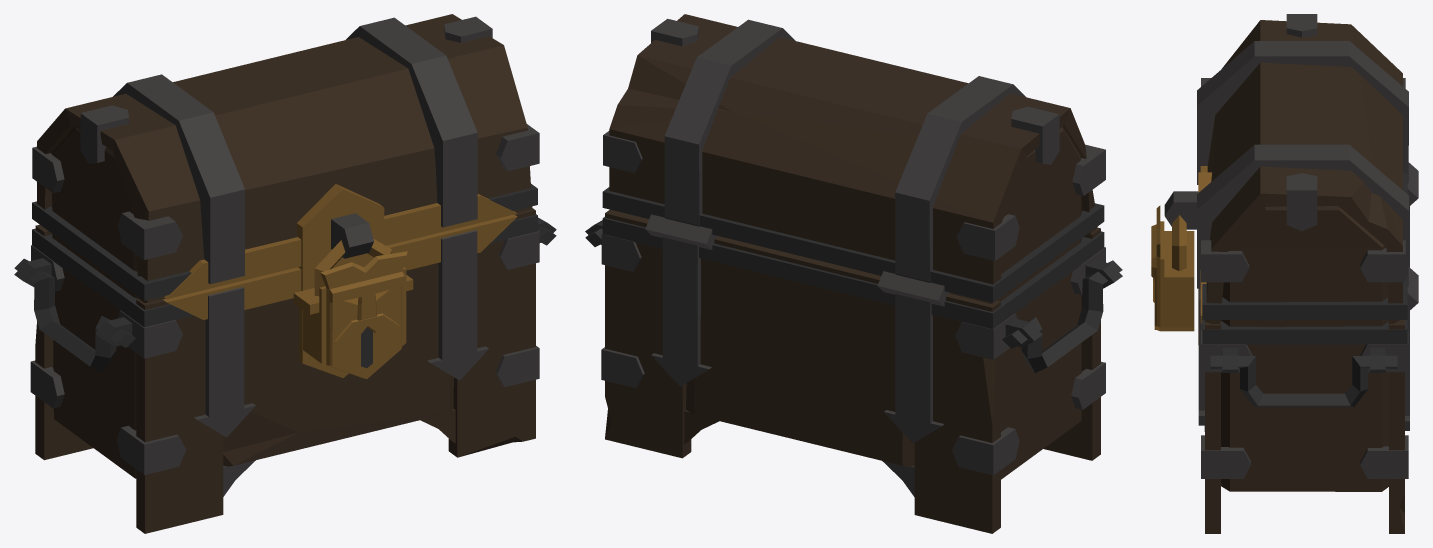
File: SM_Chest_Dwarf.fbx
3 renders of one model, left to right at view 1: azimuth 30°, elevation 25°; view 2: azimuth 150°, elevation 25°; view 3: azimuth 270°, elevation 25°, orthographic. The views are drawn at different scales.
Visible parts, largest first — view 1: SM_Chest_Dwarf; view 2: SM_Chest_Dwarf; view 3: SM_Chest_Dwarf.
Boxes of the visible parts, bbox=[...] form: SM_Chest_Dwarf: bbox=[14, 14, 556, 533]; SM_Chest_Dwarf: bbox=[585, 14, 1122, 533]; SM_Chest_Dwarf: bbox=[1151, 14, 1418, 533].
Size of the model in its own units: 48.59 by 27.13 by 38.76.
